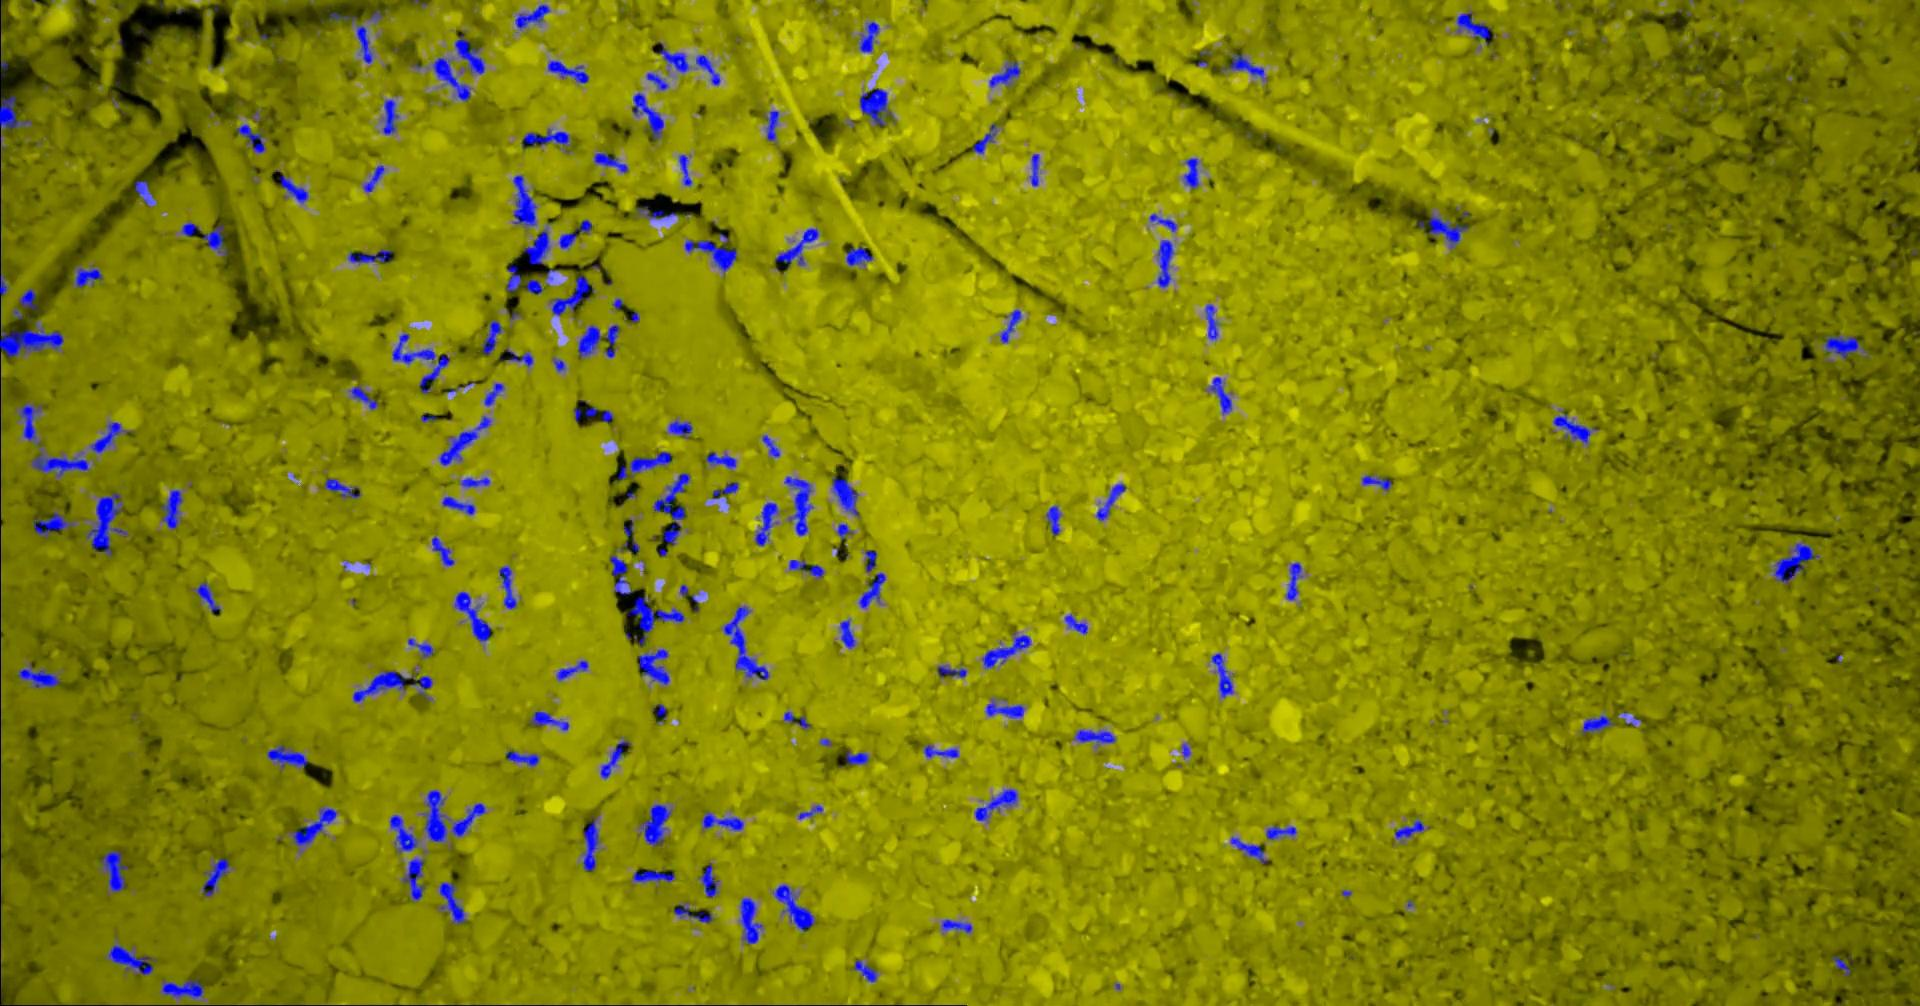ant: (391, 333, 450, 394), (723, 605, 770, 680), (623, 594, 684, 645), (651, 473, 690, 545), (352, 668, 432, 702), (438, 415, 490, 465), (772, 884, 815, 931), (288, 807, 337, 848), (1773, 540, 1818, 583), (107, 935, 155, 974), (453, 591, 490, 641), (684, 239, 737, 274), (550, 274, 594, 315), (982, 631, 1030, 668), (783, 476, 813, 535), (775, 227, 818, 267), (1417, 213, 1467, 248), (432, 57, 470, 102), (617, 451, 672, 480), (1552, 409, 1597, 443), (30, 450, 89, 476), (631, 91, 663, 138), (974, 788, 1017, 821), (1219, 51, 1267, 80), (577, 324, 618, 357), (89, 422, 132, 453), (0, 95, 30, 140), (639, 804, 670, 846), (512, 174, 537, 226), (858, 88, 893, 124), (1455, 11, 1493, 44), (599, 739, 630, 779), (455, 33, 484, 74), (32, 511, 74, 539), (439, 882, 467, 923), (521, 128, 569, 152), (830, 475, 858, 516), (1823, 334, 1868, 359), (637, 648, 669, 683), (1095, 483, 1125, 520), (265, 743, 307, 770), (100, 850, 127, 892), (18, 401, 43, 445), (739, 897, 762, 944), (389, 814, 417, 852), (401, 857, 425, 901), (754, 502, 777, 546), (1230, 836, 1269, 862), (202, 857, 229, 895), (582, 815, 599, 871), (17, 664, 60, 687), (658, 42, 690, 72), (557, 218, 590, 248), (610, 553, 632, 594), (858, 572, 885, 607), (523, 227, 549, 264), (547, 60, 588, 83), (1211, 652, 1232, 697), (672, 901, 712, 923), (201, 224, 227, 257), (514, 4, 549, 29), (1156, 239, 1173, 287), (236, 124, 265, 152), (279, 174, 309, 202), (192, 582, 220, 611), (989, 60, 1020, 86), (161, 489, 182, 528), (701, 810, 743, 829), (161, 979, 203, 998), (1209, 377, 1230, 414), (695, 55, 720, 85), (498, 565, 516, 608), (324, 478, 361, 498), (430, 535, 455, 565), (347, 248, 391, 264), (985, 699, 1023, 718), (530, 711, 568, 730), (999, 309, 1021, 342), (971, 123, 996, 152), (481, 320, 502, 354), (698, 864, 719, 897), (72, 264, 102, 287), (593, 152, 627, 171), (1394, 821, 1429, 840), (350, 386, 378, 409), (1073, 729, 1115, 744), (356, 25, 372, 64), (441, 495, 474, 514), (1285, 561, 1302, 600), (858, 22, 879, 52), (789, 559, 823, 577), (1581, 715, 1614, 733), (556, 661, 587, 680), (637, 205, 677, 218), (703, 451, 737, 467), (505, 749, 538, 766), (844, 246, 872, 265), (382, 99, 397, 133), (853, 959, 876, 982), (363, 165, 383, 191), (505, 347, 532, 366), (632, 870, 676, 882), (408, 638, 433, 657), (1361, 474, 1390, 490), (1149, 213, 1176, 231), (483, 384, 504, 405), (1064, 614, 1087, 634), (135, 180, 152, 206), (1205, 304, 1218, 339), (1045, 506, 1060, 535), (839, 619, 855, 648), (1265, 826, 1297, 840), (711, 481, 738, 498), (783, 711, 810, 728), (923, 744, 957, 757), (764, 111, 778, 141), (1183, 158, 1197, 188), (0, 244, 8, 298), (505, 264, 521, 291), (761, 434, 778, 457), (678, 154, 691, 185), (940, 920, 971, 932), (668, 420, 692, 437), (19, 287, 37, 309), (797, 804, 822, 819), (646, 72, 667, 90), (1831, 955, 1849, 976), (328, 11, 356, 24), (936, 666, 966, 677), (844, 749, 869, 763), (1029, 152, 1039, 185), (573, 406, 596, 420), (460, 476, 489, 486), (524, 278, 543, 293), (618, 539, 639, 553), (651, 702, 665, 723), (863, 550, 876, 572), (836, 523, 852, 540), (182, 221, 199, 236), (368, 9, 385, 20), (599, 409, 613, 422), (552, 358, 565, 371)
